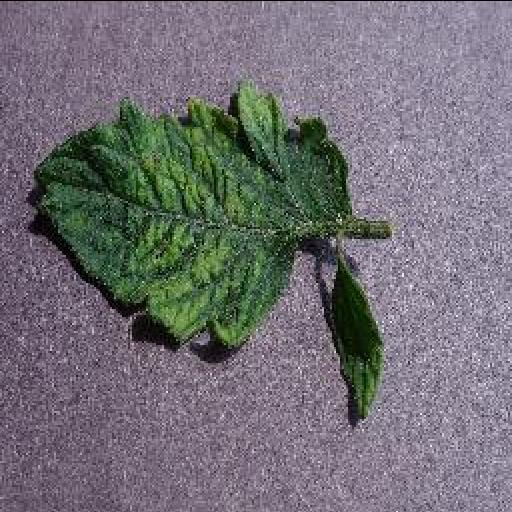Mosaic Virus: (24, 79, 350, 353), (322, 258, 384, 428)
